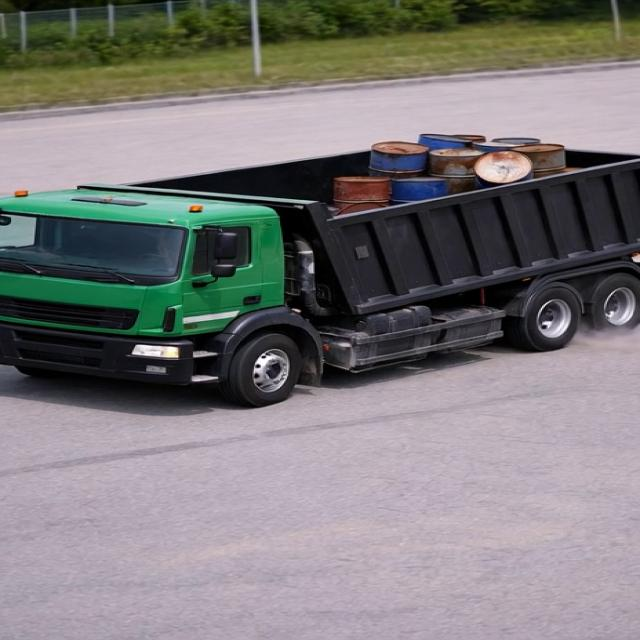Box: (110, 133, 626, 219)
Truck: (11, 90, 638, 411)
